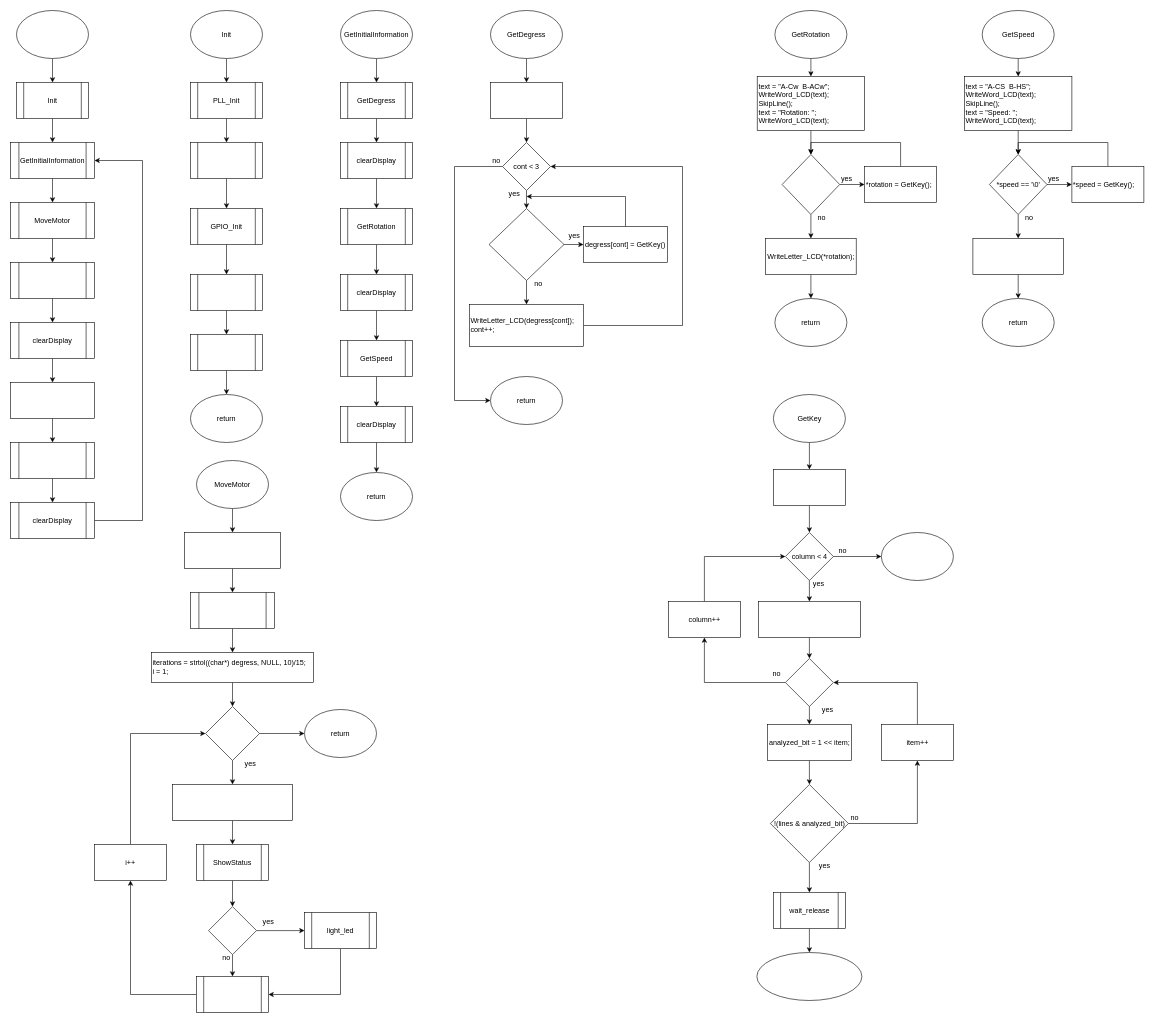
Image size: 1154x1023. Some labels were removed from this diagram. Here are the shapes that lost their labels. From the top down, the centre of each, then its label:
point (52, 34): Begin
point (526, 100): text = "Degress: "; WriteWord_LCD(text); cont = 0;
point (226, 160): SysTick_Init
point (811, 184): *rotation == '\0'
point (526, 244): degress[cont] == '\0'
point (1018, 256): WriteLetter_LCD(*speed);
point (52, 280): ResetInformation
point (226, 292): LCD_Init
point (226, 352): enable_leds
point (52, 400): WriteWord_LCD("end");
point (52, 460): wait_asterisk
point (809, 487): column = 0
point (232, 550): steps15 = (15.0/360.0) * MOTOR_STEPS_PER_LAP;
point (917, 556): return '\0'
point (232, 610): InitParameters
point (809, 619): SetOneExitM(column) lines = Return_PortL() & 0x0F; item = 0;
point (809, 682): item < 4
point (232, 733): i <= iterations
point (232, 802): sprintf((char*) degress, "%d", 15*i);
point (232, 930): i%3 == 0
point (232, 994): Move15degrees
point (809, 976): return keyboard[line][column]
